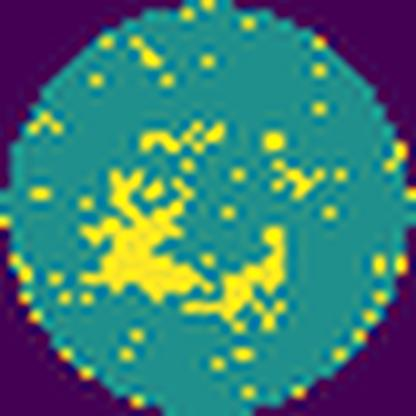Loc: (79, 168, 216, 298), (184, 224, 288, 336)
